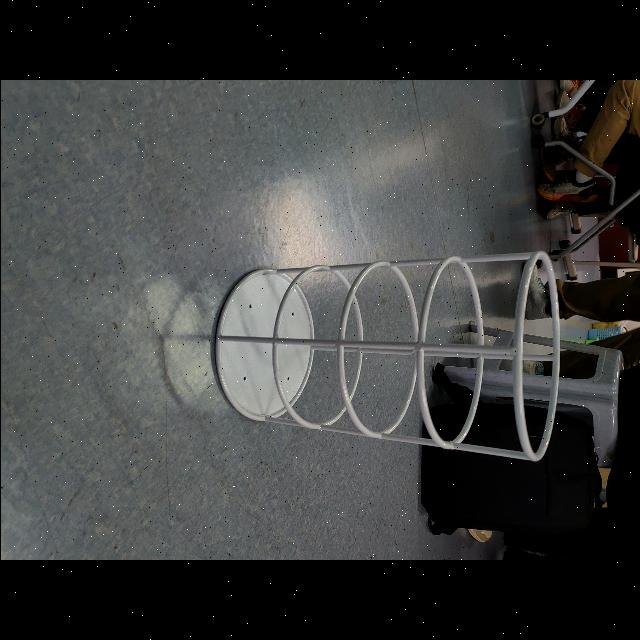S: (210, 247, 562, 467)
